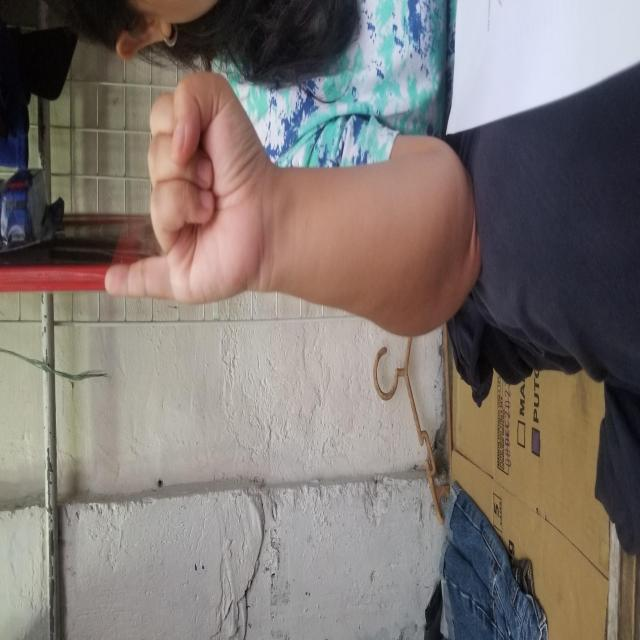I: (338, 103, 572, 264)
